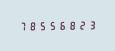eight: (27, 20, 36, 31), (67, 19, 76, 30)
five: (37, 20, 46, 31), (47, 20, 56, 31)
seven: (17, 20, 26, 31)
six: (57, 20, 66, 30)
three: (87, 19, 96, 30)
two: (77, 19, 86, 30)
